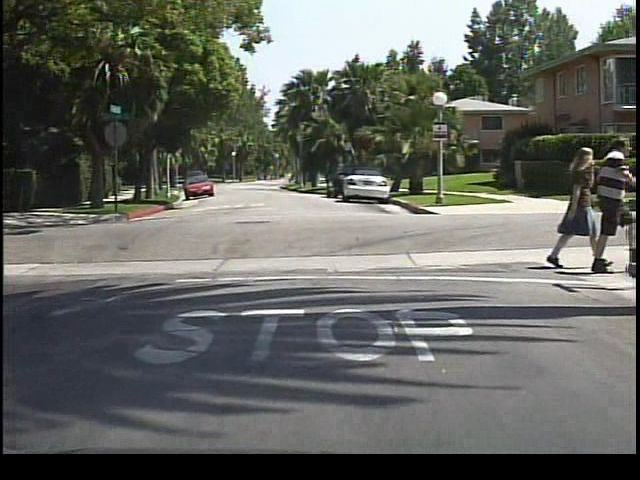person: (584, 134, 634, 275), (546, 143, 596, 272)
